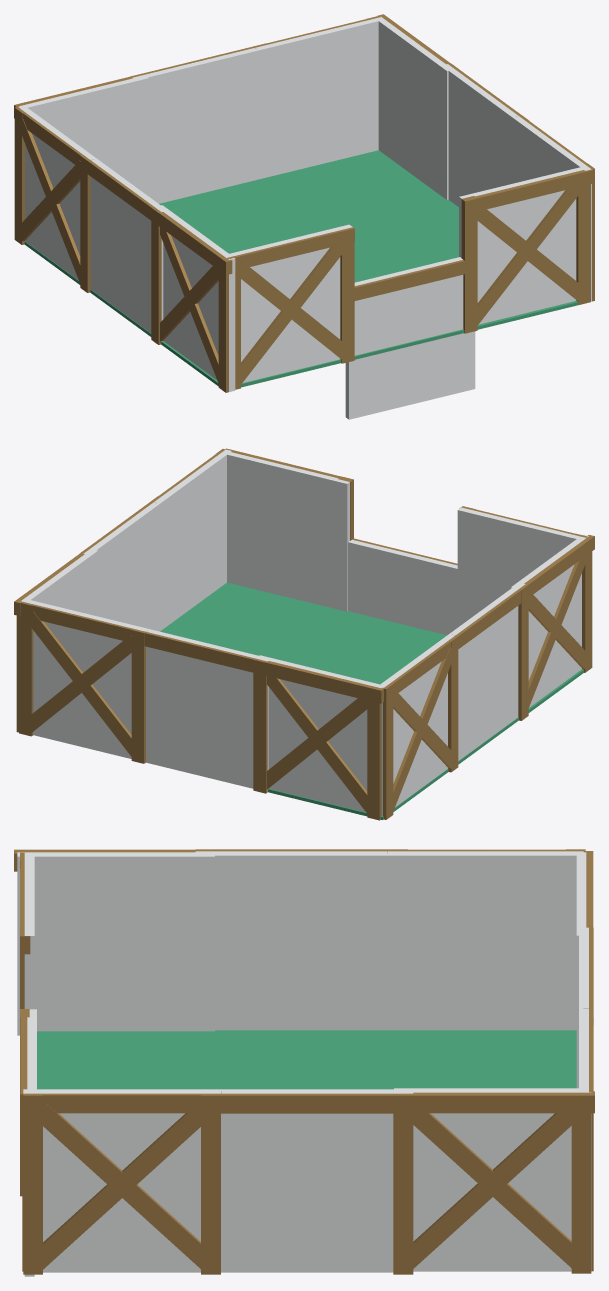
Rendered from Faeghal Barn Aadit.fbx.
3 renders of one model, top to bottom at view 1: azimuth 30°, elevation 25°; view 2: azimuth 150°, elevation 25°; view 3: azimuth 270°, elevation 25°, orthographic. The views are drawn at different scales.
Visible parts, largest first — view 1: obj_0; view 2: obj_0; view 3: obj_0.
Boxes of the visible parts, box(x1,y1,x2,y2) form: obj_0: box(14, 14, 594, 419); obj_0: box(14, 448, 594, 820); obj_0: box(14, 849, 594, 1276).
Size of the model in its own units: 12460 by 6123 by 12420.
